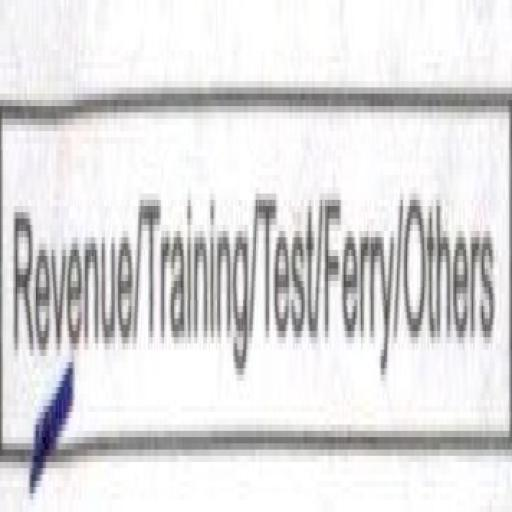check: (5, 125, 132, 512)
